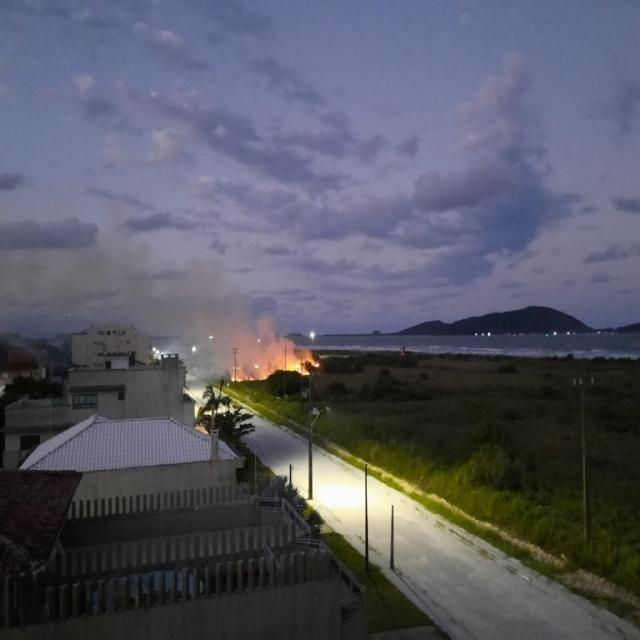Fire: (284, 358, 310, 376), (230, 375, 242, 385), (311, 360, 322, 368)
